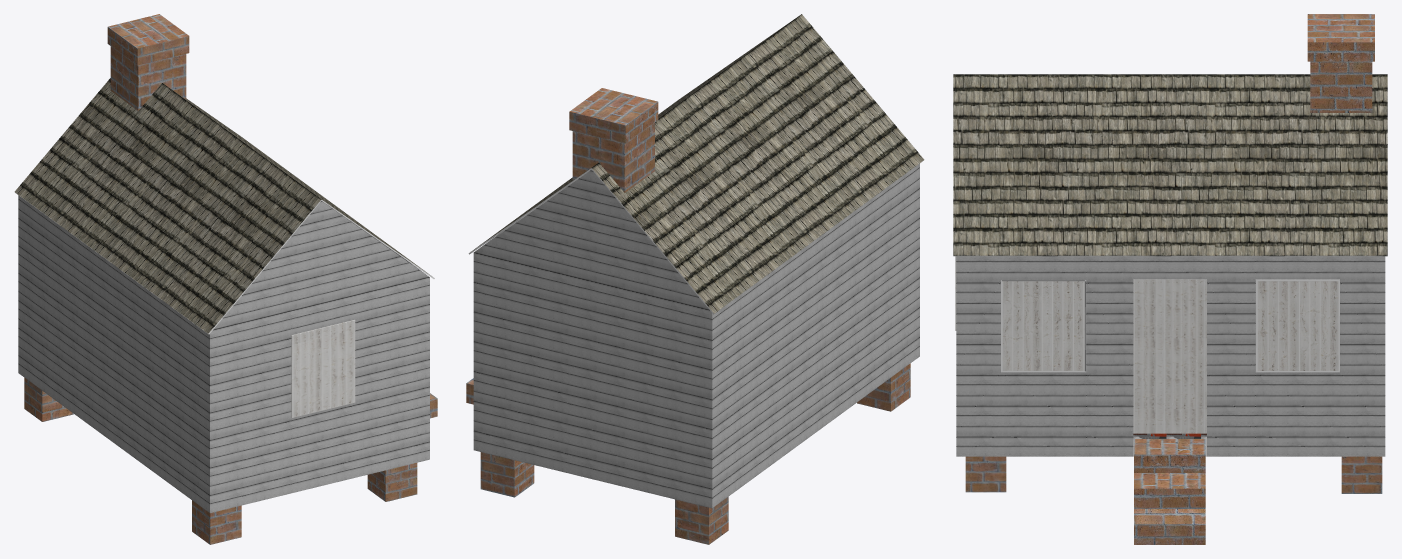
The model's file is slave_house.fbx.
3 views of the same model, side by side, from view 1: azimuth 30°, elevation 25°; view 2: azimuth 150°, elevation 25°; view 3: azimuth 270°, elevation 25° (orthographic). The views are drawn at different scales.
Visible parts, largest first — view 1: low; view 2: low; view 3: low.
Part boxes in pixels (x1=…): low: x1=14, y1=14, x2=437, y2=544; low: x1=466, y1=14, x2=924, y2=544; low: x1=953, y1=14, x2=1387, y2=544.
Bounding box in the file's own units: 4.73 × 5.32 × 5.12.
